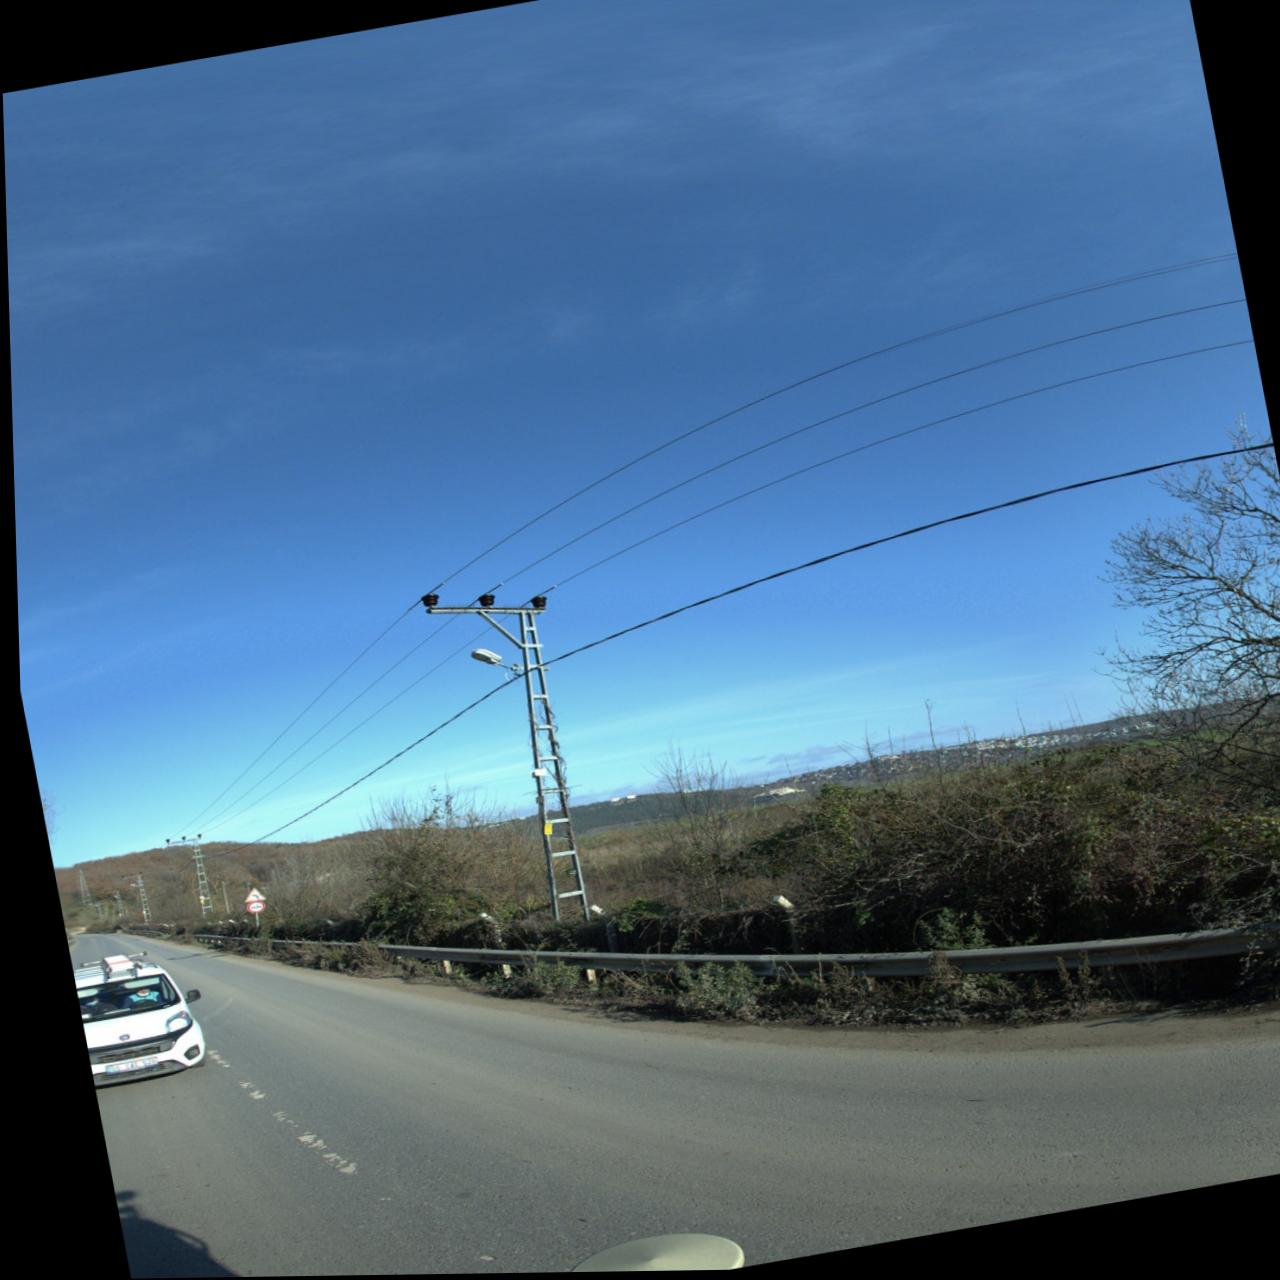Utility Pole Information Plate: (539, 825, 547, 836)
